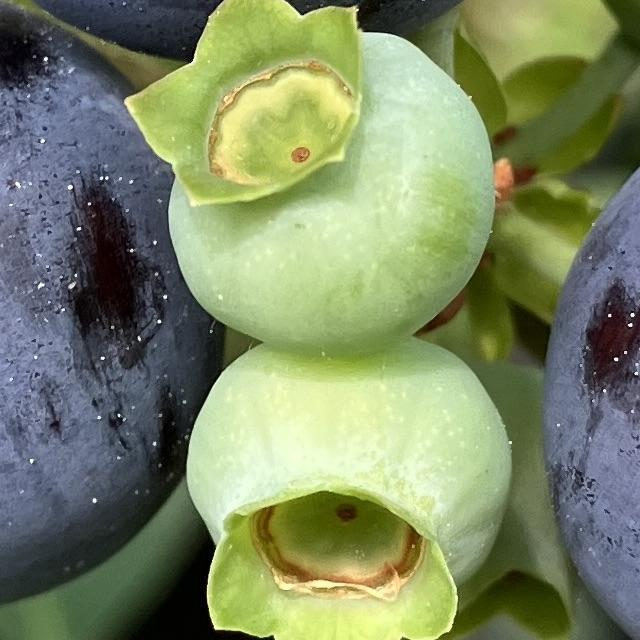Blueberries: (116, 0, 512, 358), (0, 0, 216, 613)
